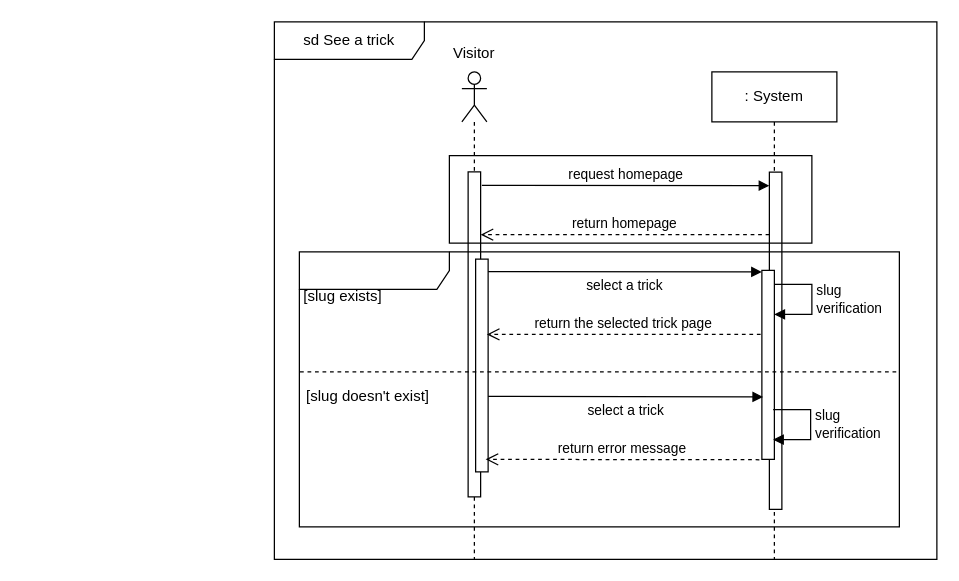
Image size: 959x581. Some labels were removed from this diagram. The shapes that lost their labels are listed below. From the top down, each one's box as (x1, y1, x2, y2) in pixels, then its label:
(448, 154, 812, 243): homepage access
(298, 251, 899, 527): alt
